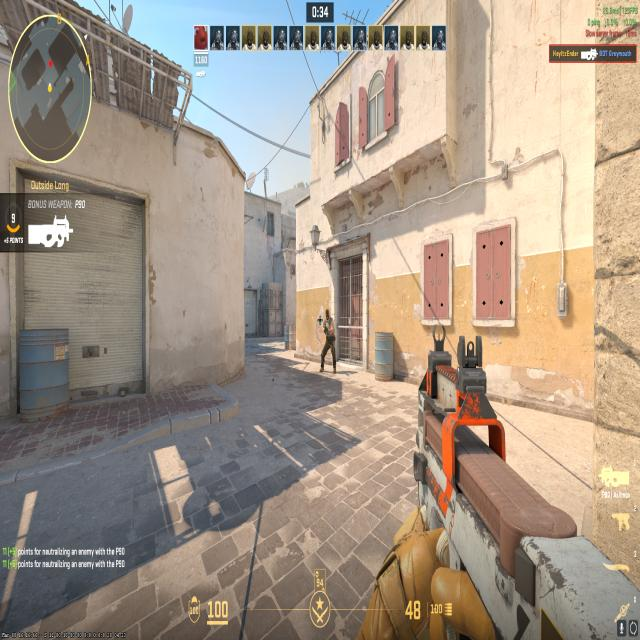t: (316, 302, 342, 377)
